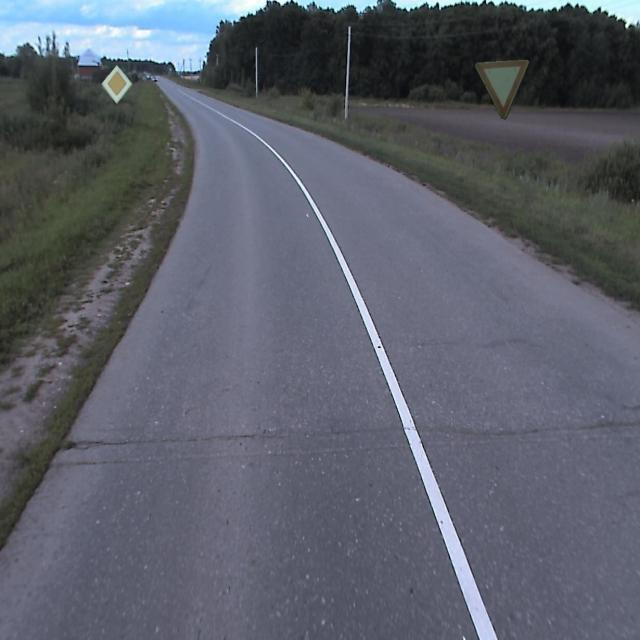road: (0, 76, 639, 639)
